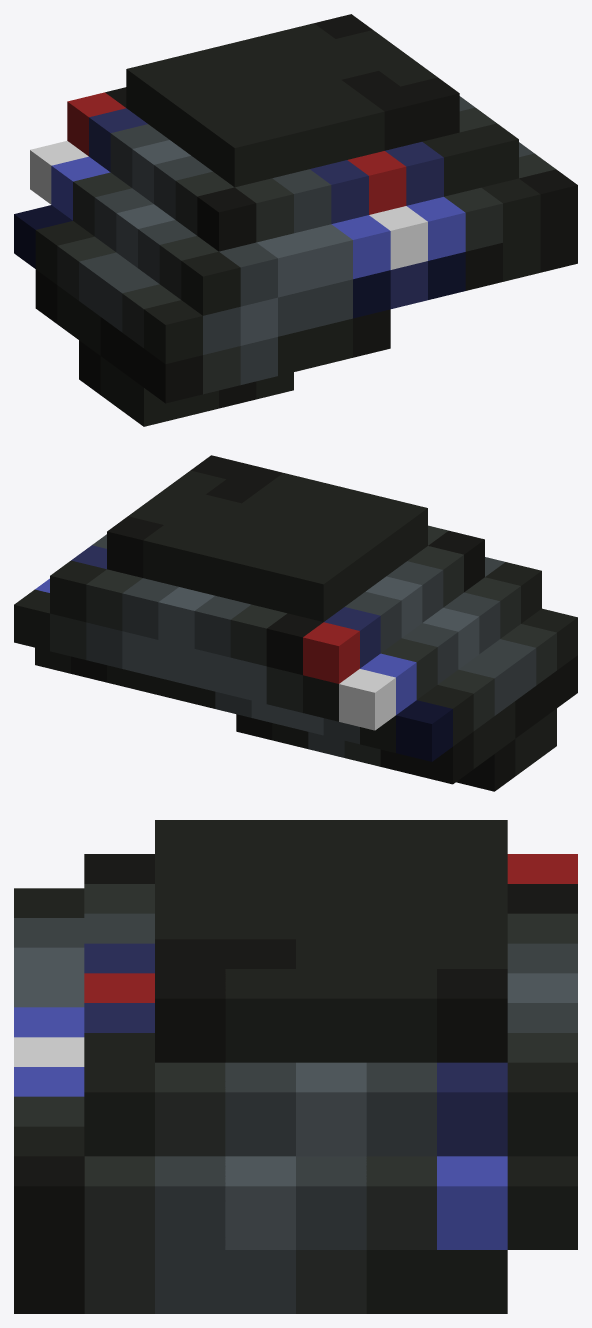
The model's file is CMU3DWornAU14USASFSECFORBeretHead.glb.
3 views of the same model, one above another, from view 1: azimuth 30°, elevation 25°; view 2: azimuth 150°, elevation 25°; view 3: azimuth 270°, elevation 25° (orthographic). The views are drawn at different scales.
Visible parts, largest first — view 1: source volume 48, source volume 74, source volume 83, source volume 44, source volume 1, source volume 93, source volume 102, source volume 3, source volume 5, source volume 77, source volume 31, source volume 15 (+51 smaller); view 2: source volume 48, source volume 56, source volume 5, source volume 77, source volume 41, source volume 12, source volume 26, source volume 1, source volume 10, source volume 79, source volume 92, source volume 101 (+47 smaller); view 3: source volume 48, source volume 77, source volume 94, source volume 102, source volume 103, source volume 104, source volume 74, source volume 83, source volume 76, source volume 87, source volume 100, source volume 78 (+34 smaller).
Boxes of the visible parts, x1,y1,x2,y2 form: source volume 48: (126,32,384,187); source volume 74: (363,77,459,150); source volume 83: (422,123,518,196); source volume 44: (256,224,352,297); source volume 1: (100,317,202,403); source volume 93: (482,178,540,281); source volume 102: (519,169,577,272); source volume 3: (100,356,218,426); source volume 5: (79,252,159,332); source volume 77: (298,30,415,79); source volume 31: (197,187,256,251); source volume 15: (181,251,240,315); source volume 48: (179,473,427,621); source volume 56: (122,631,266,703); source volume 5: (459,639,536,715); source volume 77: (128,485,241,533); source volume 41: (303,622,359,683); source volume 12: (396,700,452,761); source volume 26: (339,669,395,730); source volume 1: (515,655,577,738); source volume 10: (380,732,473,784); source volume 79: (122,578,178,639); source volume 92: (107,516,163,577); source volume 101: (50,560,106,622); source volume 48: (155,820,507,939); source volume 77: (296,939,436,1062); source volume 94: (155,1156,225,1313); source volume 102: (14,1156,84,1313); source volume 103: (84,1156,154,1313); source volume 104: (366,1250,507,1313); source volume 74: (155,939,225,1062); source volume 83: (84,1033,154,1156); source volume 76: (296,1062,366,1156); source volume 87: (225,1062,295,1156); source volume 100: (437,1062,507,1156); source volume 78: (366,1062,436,1156).
Size of the model in its own units: 0.55 by 0.3 by 0.4.
